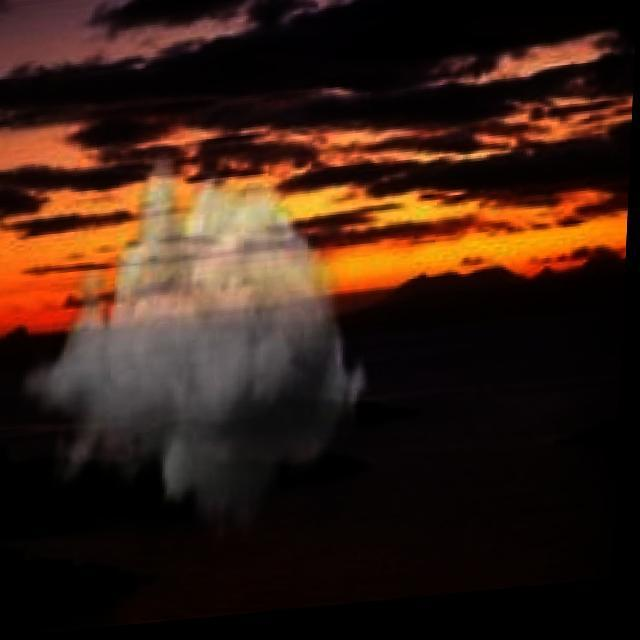Smoke: (21, 140, 380, 550)
